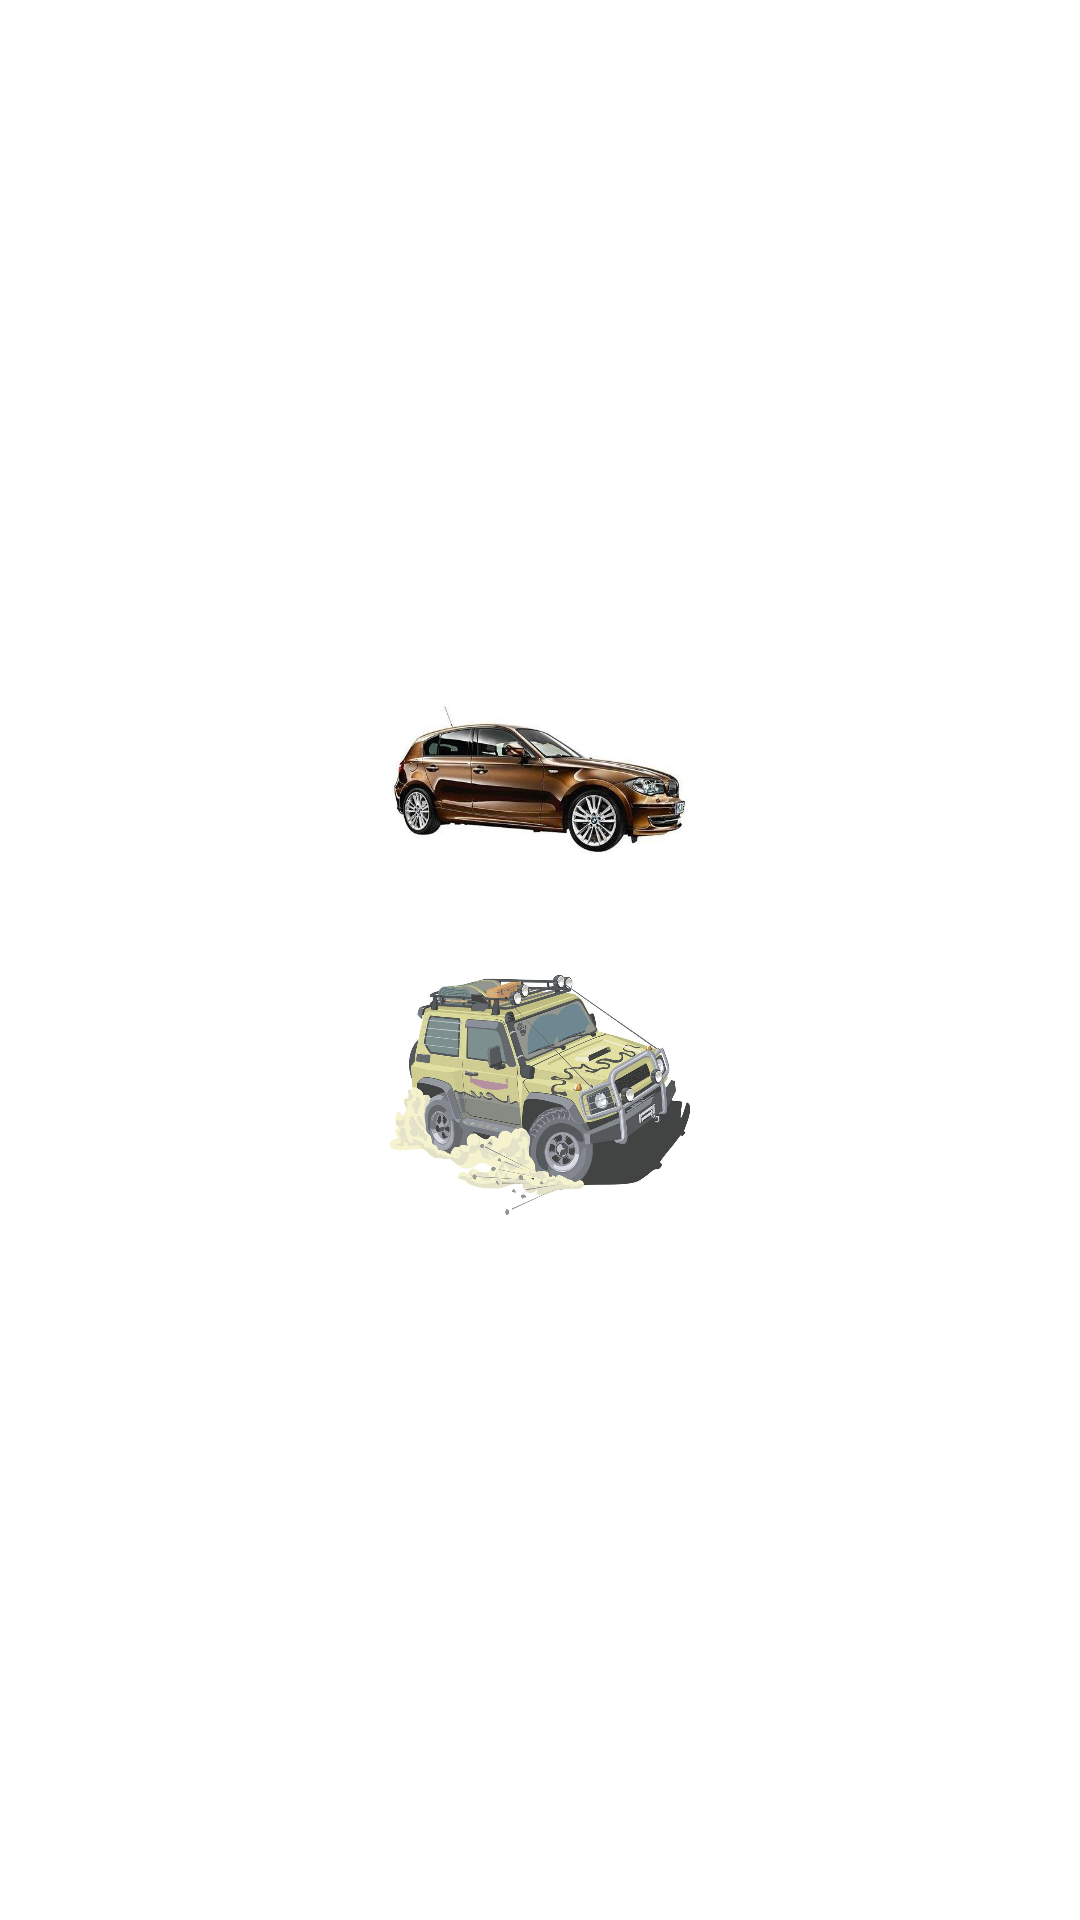

Screen size 1080 x 1920. Icon name, then its box in pixels as (x1, y1, x2, y2):
car: (394, 707, 685, 852), (390, 975, 690, 1215)
